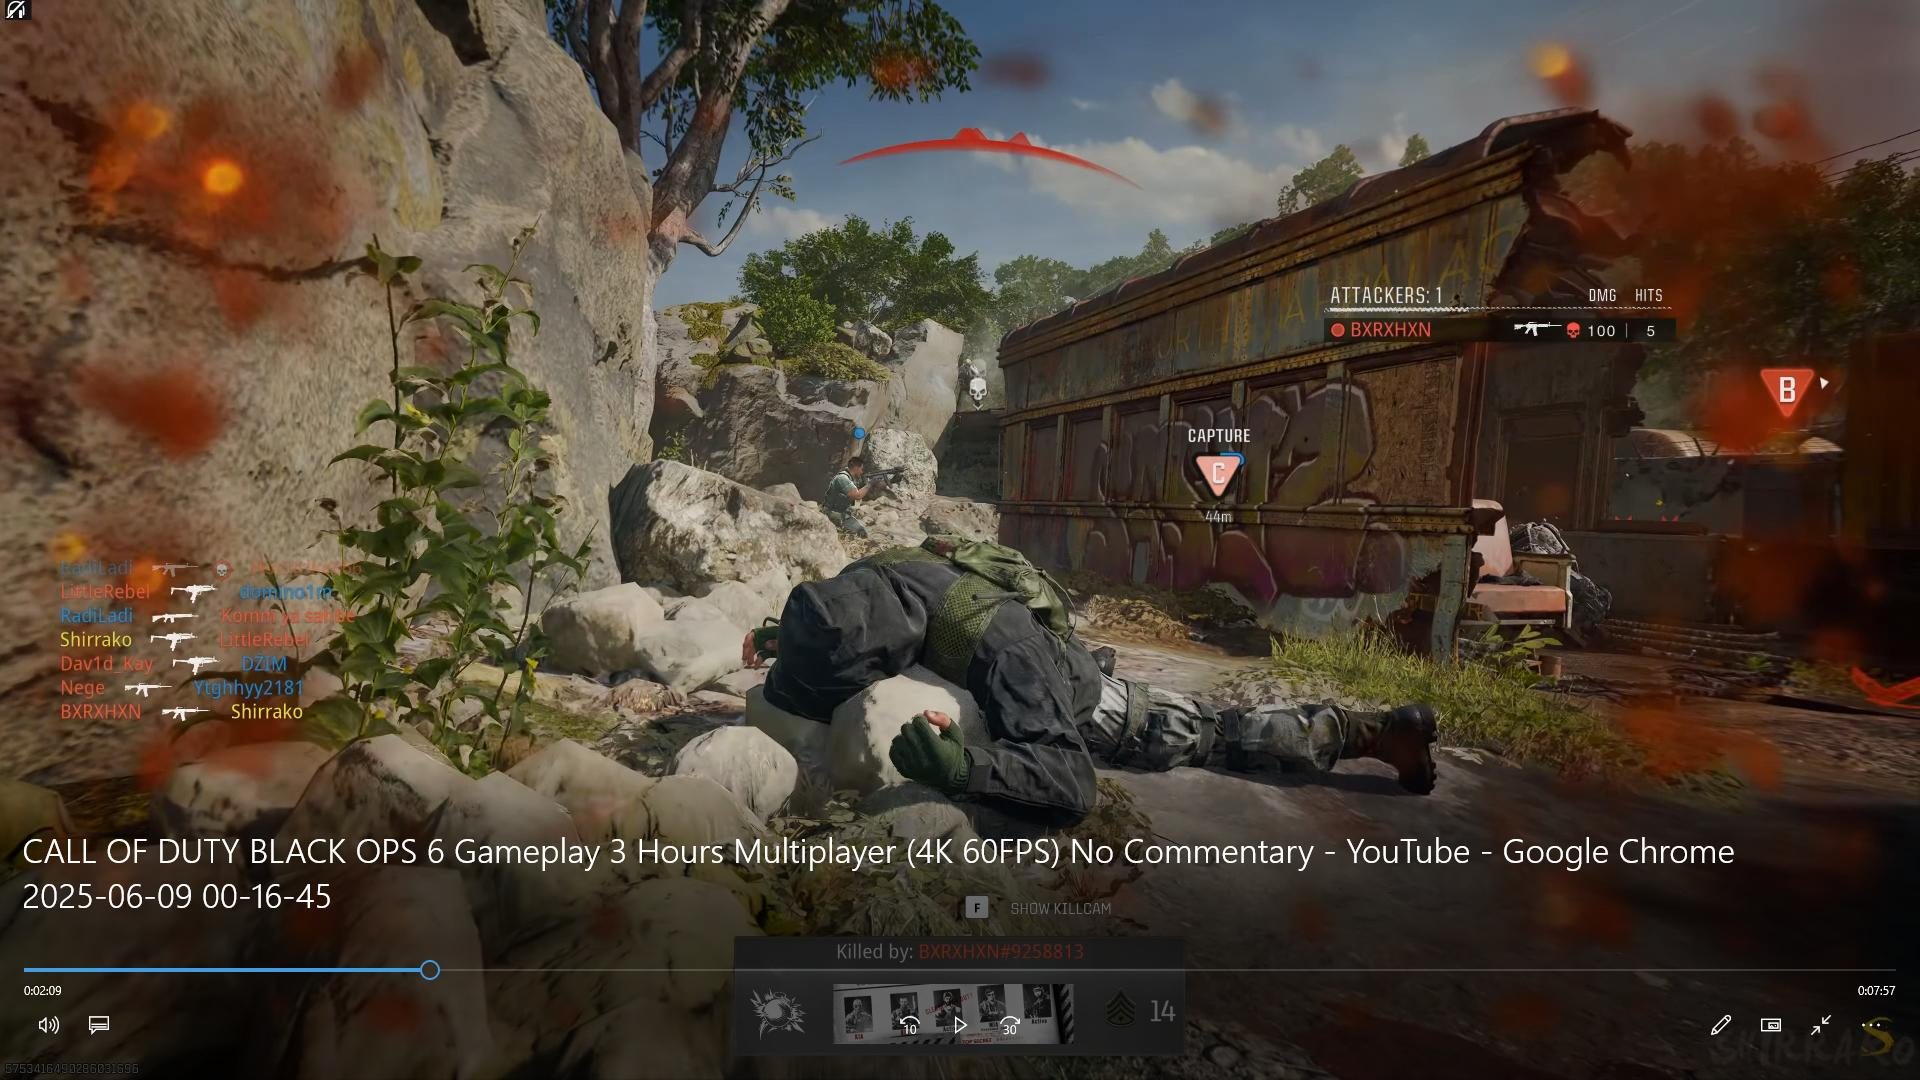Enemy: (816, 458, 891, 543)
